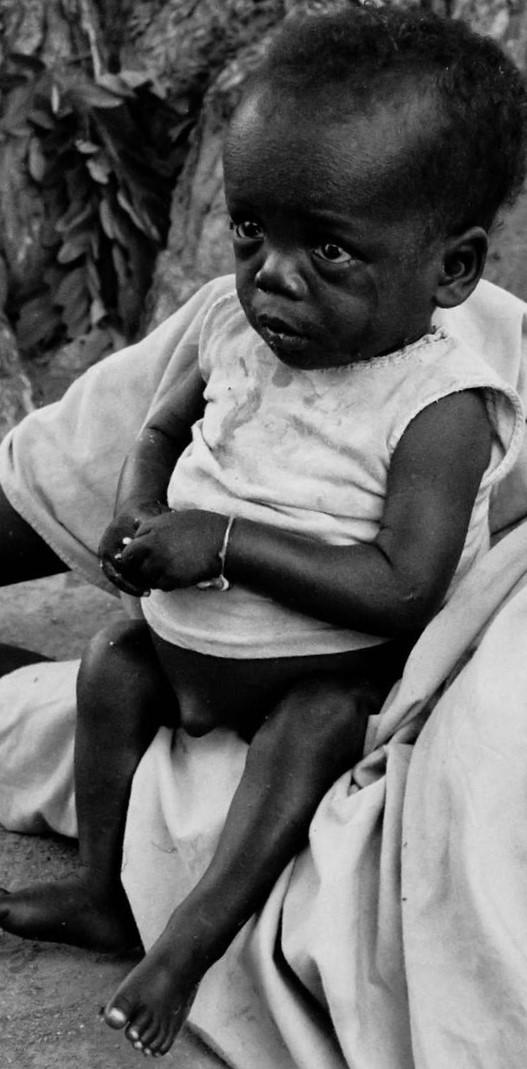Stunting: (208, 10, 527, 405)
